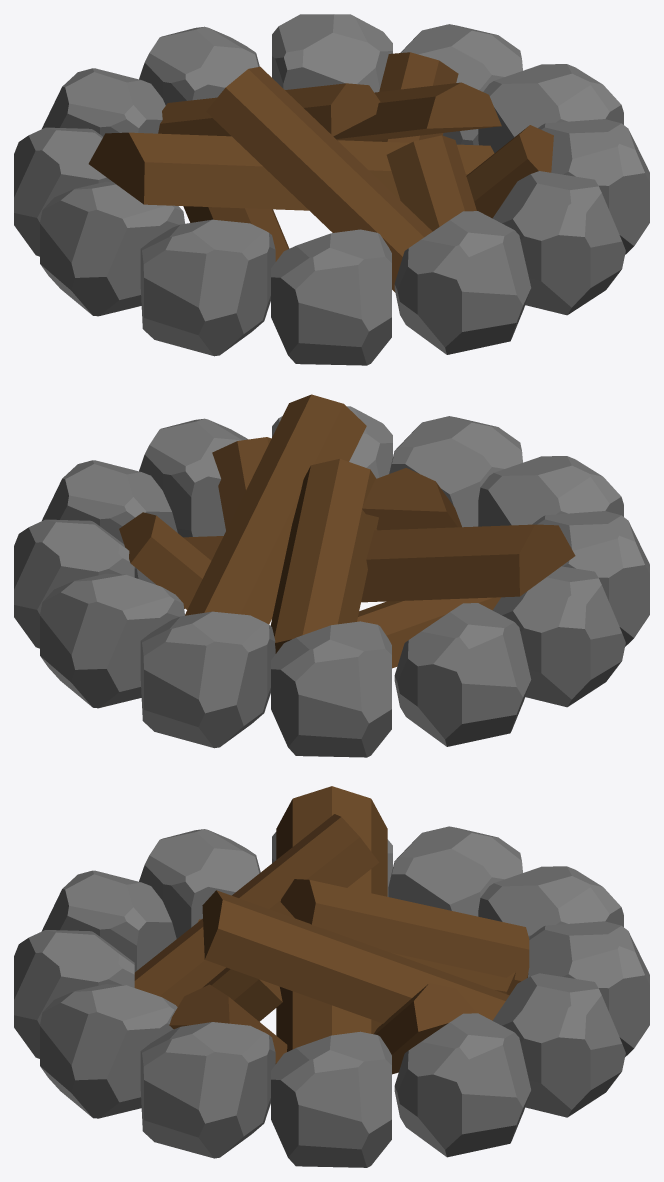
The model's file is Fire.fbx.
3 views of the same model, one above another, from view 1: azimuth 30°, elevation 25°; view 2: azimuth 150°, elevation 25°; view 3: azimuth 270°, elevation 25° (orthographic).
Visible parts, largest first — view 1: Cube, Cylinder.003, Cylinder, Cylinder.001, Cylinder.004, Cylinder.005, Cylinder.006, Cylinder.007, Cylinder.002; view 2: Cube, Cylinder.001, Cylinder, Cylinder.005, Cylinder.007, Cylinder.003, Cylinder.002, Cylinder.006; view 3: Cube, Cylinder.001, Cylinder.005, Cylinder.003, Cylinder, Cylinder.007, Cylinder.006, Cylinder.004, Cylinder.002.
Part boxes in pixels (box(x1,y1,x2,y2)): Cube: box(14, 14, 649, 365); Cylinder.003: box(206, 66, 432, 292); Cylinder: box(88, 132, 494, 210); Cylinder.001: box(333, 82, 501, 141); Cylinder.004: box(386, 135, 476, 231); Cylinder.005: box(158, 83, 380, 136); Cylinder.006: box(466, 125, 553, 218); Cylinder.007: box(367, 52, 458, 142); Cylinder.002: box(183, 206, 289, 261); Cube: box(14, 406, 649, 757); Cylinder.001: box(185, 394, 366, 624); Cylinder: box(183, 524, 575, 608); Cylinder.005: box(270, 459, 378, 653); Cylinder.007: box(119, 512, 211, 609); Cylinder.003: box(362, 468, 461, 530); Cylinder.002: box(357, 597, 500, 668); Cylinder.006: box(212, 437, 271, 530); Cube: box(14, 826, 649, 1167); Cylinder.001: box(202, 890, 509, 1023); Cylinder.005: box(280, 879, 529, 981); Cylinder.003: box(134, 814, 378, 1006); Cylinder: box(276, 786, 387, 1051); Cylinder.007: box(374, 983, 476, 1074); Cylinder.006: box(169, 984, 287, 1063); Cylinder.004: box(203, 967, 282, 1021); Cylinder.002: box(198, 919, 528, 995).
Size of the model in its own units: 2102 by 684 by 2102.
